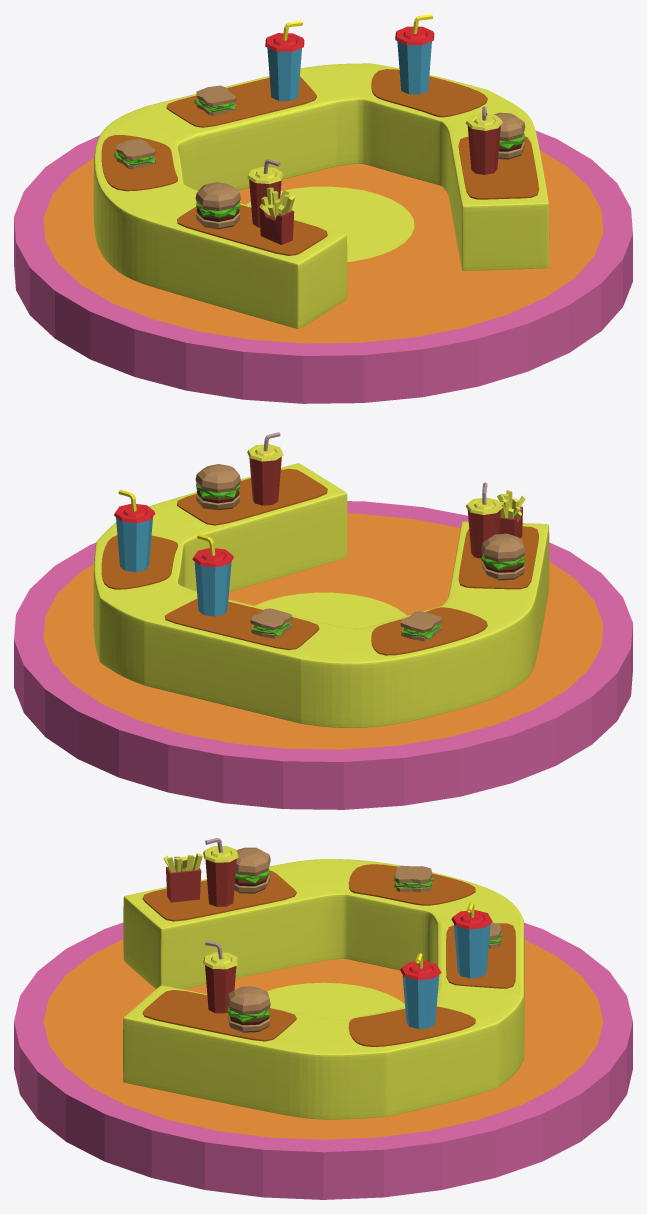
File: yuvarlaksahne.fbx
3 views of the same model, one above another, from view 1: azimuth 30°, elevation 25°; view 2: azimuth 150°, elevation 25°; view 3: azimuth 270°, elevation 25° (orthographic).
Visible parts, largest first — view 1: Cube, Circle, Circle.001, Circle.002, Cube.004, Cube.006, SM_Prop_Food_Tray_01_Food_05.006, Cube.005, SM_Prop_Food_Tray_01_Food_05.001, SM_Prop_Food_Tray_01_Food_05.009, SM_Prop_Food_Tray_01_Food_05.002, SM_Prop_Food_Tray_01_Food_05.004 (+2 smaller); view 2: Cube, Circle, Circle.001, Cube.006, Cube.004, SM_Prop_Food_Tray_01_Food_05.001, SM_Prop_Food_Tray_01_Food_05.006, Circle.002, Cube.005, SM_Prop_Food_Tray_01_Food_05.002, SM_Prop_Food_Tray_01_Food_05.009, SM_Prop_Food_Sandwich_01.002 (+2 smaller); view 3: Cube, Circle, Circle.001, Cube.004, Cube.006, Circle.002, SM_Prop_Food_Tray_01_Food_05.006, SM_Prop_Food_Tray_01_Food_05.001, Cube.005, SM_Prop_Food_Tray_01_Food_05.002, SM_Prop_Food_Tray_01_Food_05.009, SM_Prop_Food_Tray_01_Food_05.004 (+1 smaller).
Boxes of the visible parts, <box> form: Cube: <box>93,63,549,328</box>; Circle: <box>14,130,632,403</box>; Circle.001: <box>43,150,603,343</box>; Circle.002: <box>246,186,414,262</box>; Cube.004: <box>177,136,538,255</box>; Cube.006: <box>101,69,487,191</box>; SM_Prop_Food_Tray_01_Food_05.006: <box>247,106,502,227</box>; Cube.005: <box>166,76,316,127</box>; SM_Prop_Food_Tray_01_Food_05.001: <box>195,112,525,229</box>; SM_Prop_Food_Tray_01_Food_05.009: <box>395,14,434,94</box>; SM_Prop_Food_Tray_01_Food_05.002: <box>265,20,304,100</box>; SM_Prop_Food_Tray_01_Food_05.004: <box>259,187,294,244</box>; Cube: <box>93,463,549,727</box>; Circle: <box>14,501,632,809</box>; Circle.001: <box>43,513,603,749</box>; Cube.006: <box>101,535,487,655</box>; Cube.004: <box>177,468,538,589</box>; SM_Prop_Food_Tray_01_Food_05.001: <box>195,464,525,580</box>; SM_Prop_Food_Tray_01_Food_05.006: <box>247,432,502,558</box>; Circle.002: <box>255,592,406,628</box>; Cube.005: <box>164,598,319,650</box>; SM_Prop_Food_Tray_01_Food_05.002: <box>192,534,233,616</box>; SM_Prop_Food_Tray_01_Food_05.009: <box>114,489,155,572</box>; SM_Prop_Food_Sandwich_01.002: <box>250,608,292,638</box>; Cube: <box>123,859,524,1119</box>; Circle: <box>14,922,632,1199</box>; Circle.001: <box>43,939,603,1139</box>; Cube.004: <box>142,871,296,1041</box>; Cube.006: <box>348,864,475,1046</box>; Circle.002: <box>267,982,404,1019</box>; SM_Prop_Food_Tray_01_Food_05.006: <box>203,838,238,1013</box>; SM_Prop_Food_Tray_01_Food_05.001: <box>227,847,270,1032</box>; Cube.005: <box>446,923,515,988</box>; SM_Prop_Food_Tray_01_Food_05.002: <box>451,902,492,978</box>; SM_Prop_Food_Tray_01_Food_05.009: <box>400,953,441,1029</box>; SM_Prop_Food_Tray_01_Food_05.004: <box>163,853,202,902</box>.
Size of the model in its own units: 285 by 94.63 by 285.
